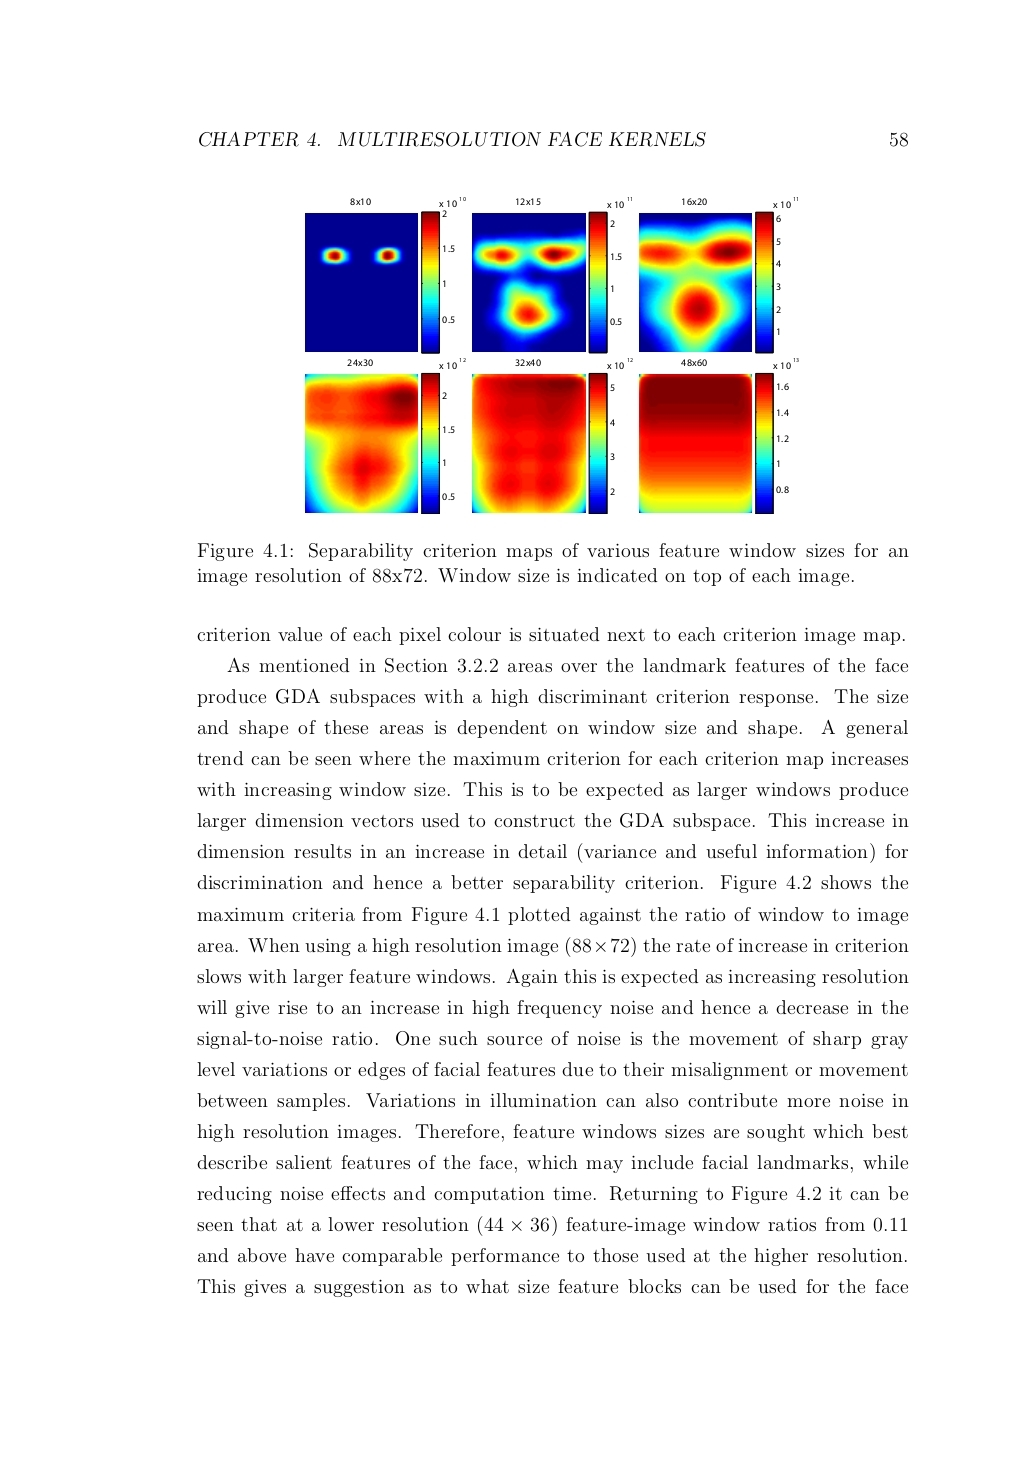figure: (305, 211, 449, 352), (638, 211, 779, 352), (472, 211, 610, 352), (303, 371, 442, 513), (471, 371, 607, 513), (638, 371, 773, 513)
